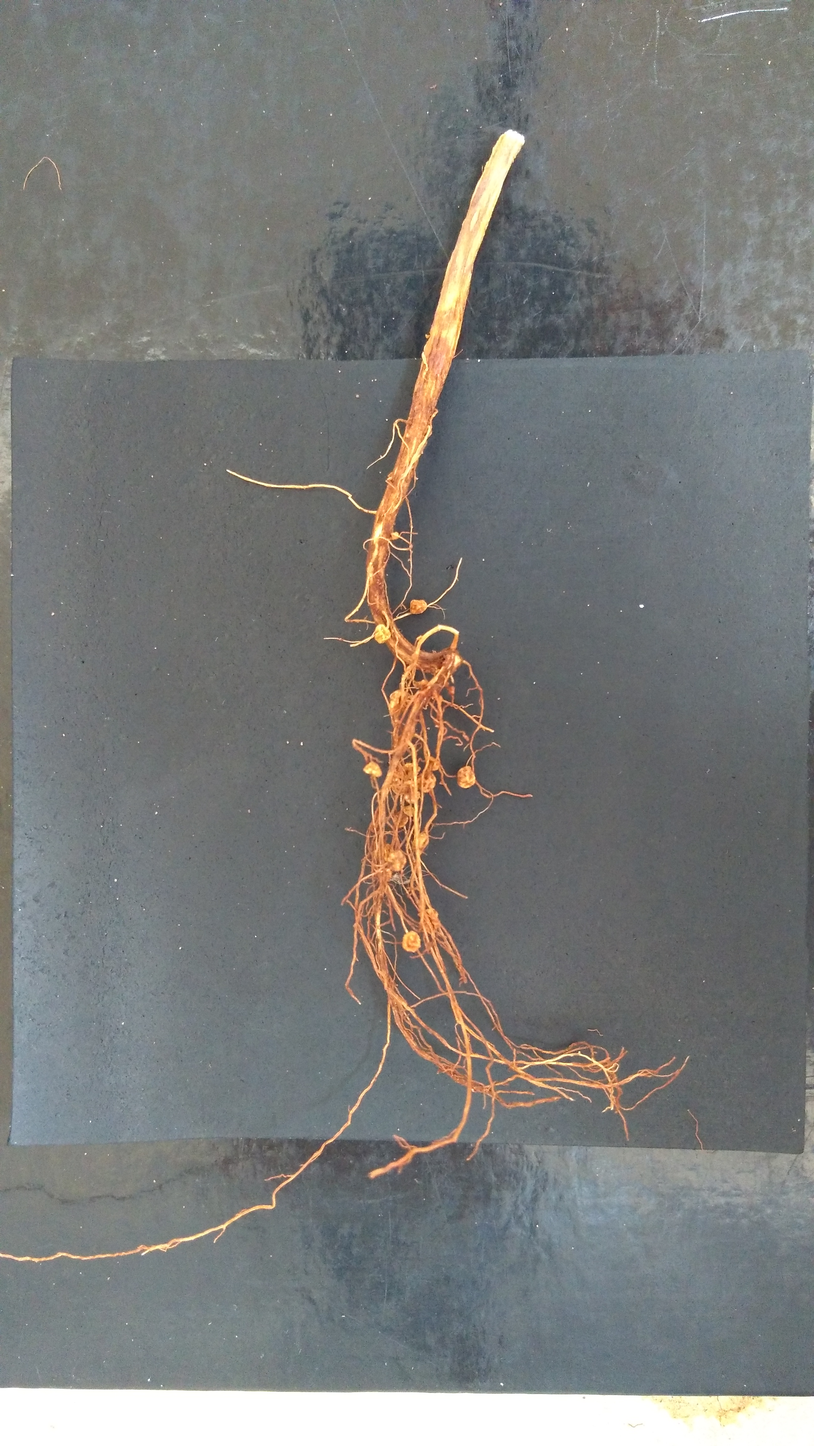nodule: (391, 760, 422, 795), (385, 687, 409, 715), (417, 908, 441, 933), (415, 771, 439, 795), (455, 764, 478, 789), (385, 849, 408, 873), (401, 929, 422, 955), (374, 623, 393, 646), (410, 831, 430, 852), (363, 760, 383, 779), (391, 810, 410, 829), (409, 598, 427, 616), (402, 790, 420, 804), (425, 755, 440, 770), (412, 678, 430, 690), (402, 804, 416, 819), (390, 531, 401, 540), (449, 685, 456, 695)
